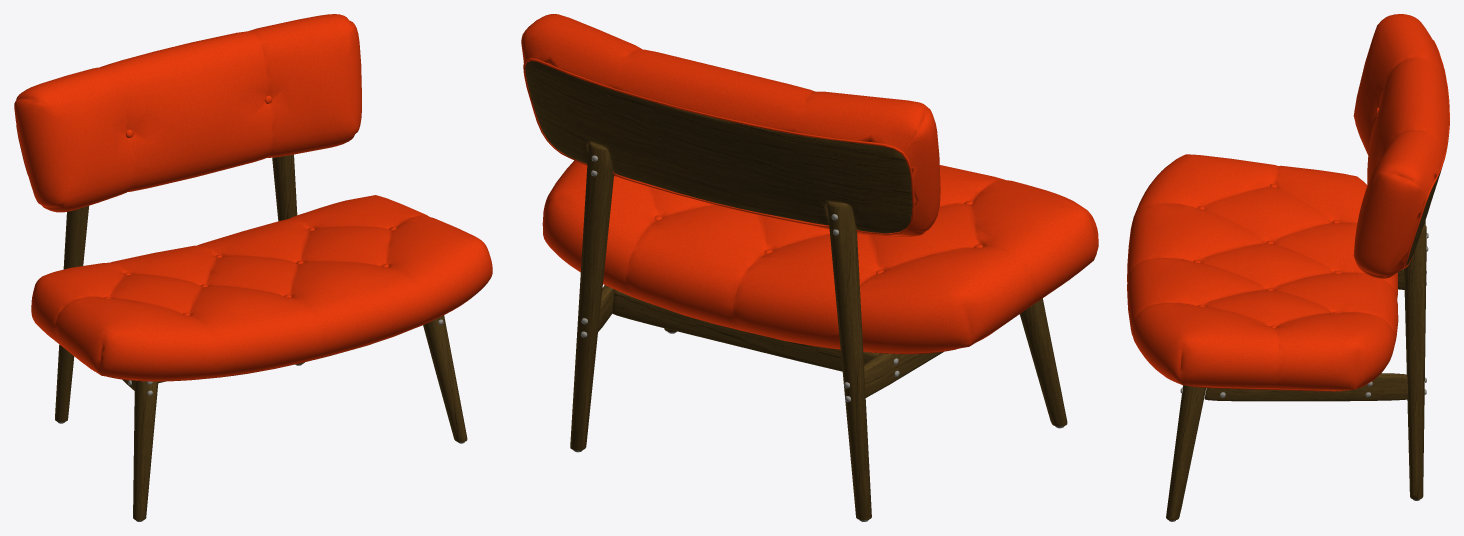
File: SheenChair.glb
3 renders of one model, left to right at view 1: azimuth 30°, elevation 25°; view 2: azimuth 150°, elevation 25°; view 3: azimuth 270°, elevation 25°, orthographic. The views are drawn at different scales.
Parts seen in each view (by area): view 1: SheenChair_fabric, SheenChair_wood; view 2: SheenChair_fabric, SheenChair_wood; view 3: SheenChair_fabric, SheenChair_wood.
Boxes of the visible parts, bbox=[...] form: SheenChair_fabric: bbox=[14, 14, 492, 381]; SheenChair_wood: bbox=[55, 154, 467, 520]; SheenChair_fabric: bbox=[521, 14, 1098, 354]; SheenChair_wood: bbox=[525, 61, 1067, 520]; SheenChair_fabric: bbox=[1127, 14, 1449, 391]; SheenChair_wood: bbox=[1166, 168, 1441, 520].
Bounding box in the file's own units: 0.8266 × 0.6861 × 0.5699.
Materials: 4 (3 with a texture image).
